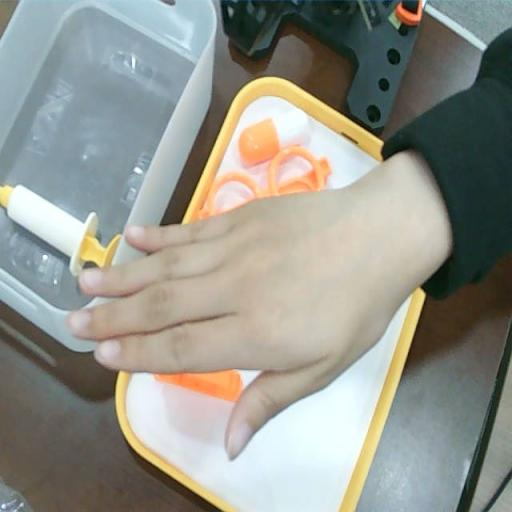hospital: (58, 166, 425, 464)
